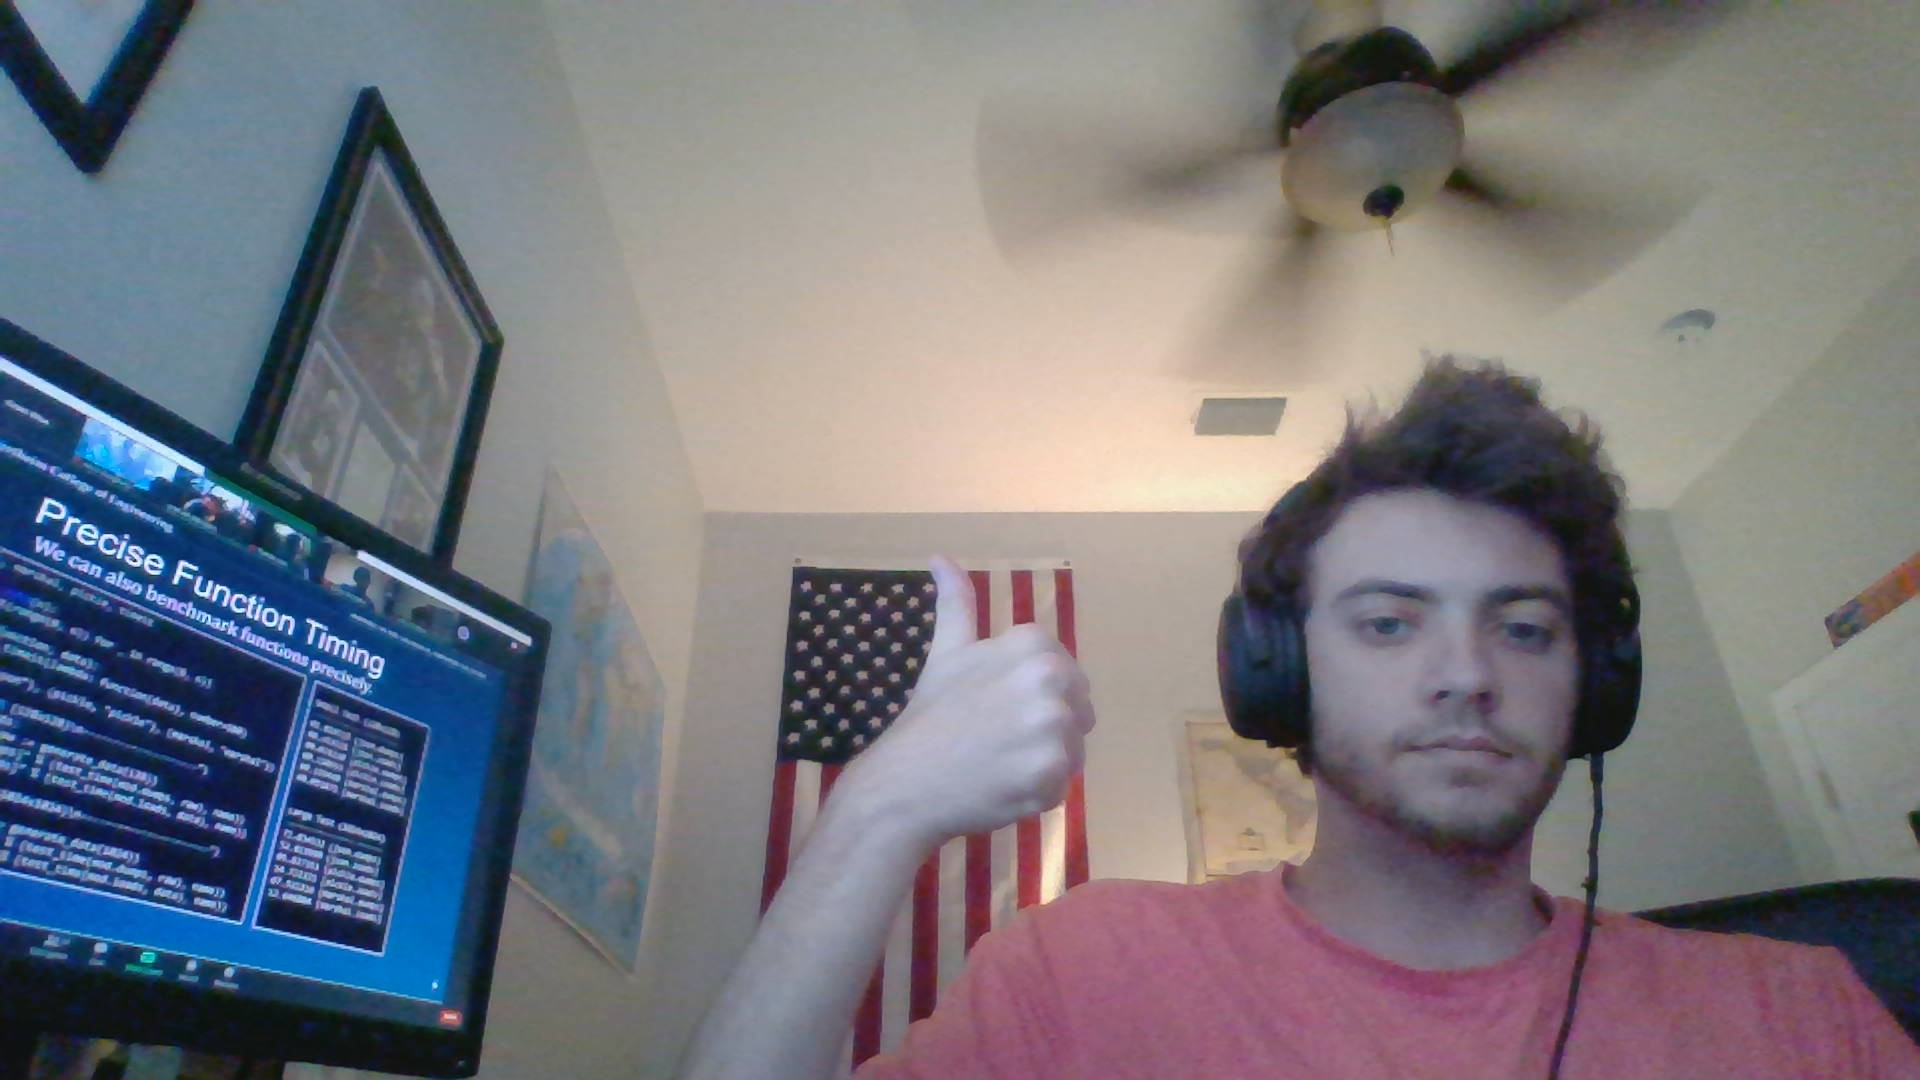Right Thumb Up: (816, 534, 1100, 849)
